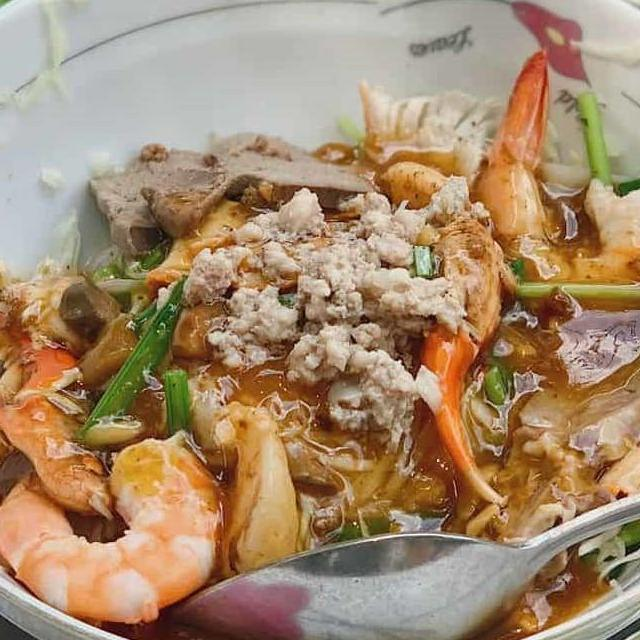gan: (76, 120, 385, 265)
thit bam: (174, 166, 497, 460)
thit heo: (591, 317, 640, 523)
tom: (465, 34, 640, 322), (0, 423, 226, 636)
